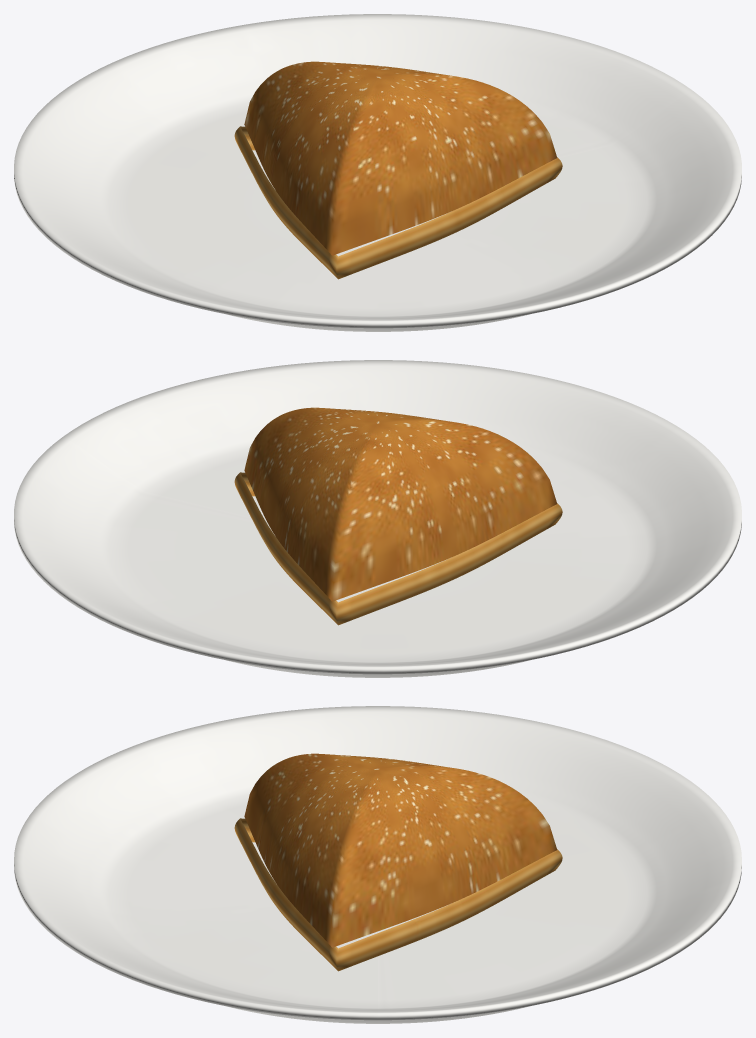
The model's file is boureka.glb.
3 renders of one model, top to bottom at view 1: azimuth 30°, elevation 25°; view 2: azimuth 150°, elevation 25°; view 3: azimuth 270°, elevation 25°, orthographic.
Parts seen in each view (by area): view 1: ceramic, glaze; view 2: ceramic, glaze; view 3: ceramic, glaze.
Boxes of the visible parts, x1,y1,x2,y2 form: ceramic: (14, 14, 741, 331); glaze: (234, 61, 562, 279); ceramic: (14, 360, 741, 677); glaze: (234, 407, 562, 625); ceramic: (14, 706, 741, 1023); glaze: (234, 753, 562, 971).
Size of the model in its own units: 0.2 by 0.044 by 0.2.
2 materials, 2 textured.
